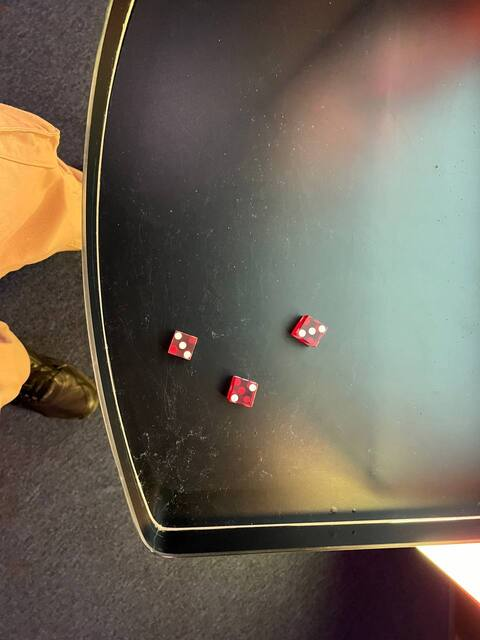three: (292, 312, 329, 347), (163, 329, 202, 360)
two: (222, 373, 261, 407)
